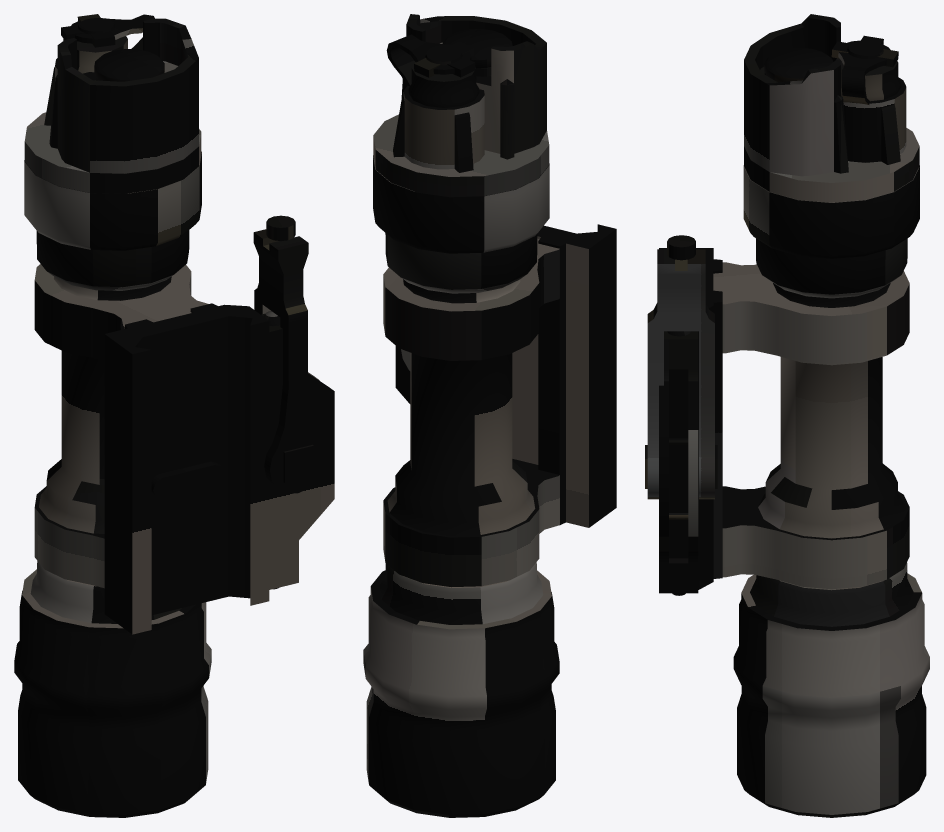
File: Light_Weapon.fbx
The picture shows the model from 3 angles, left to right: view 1: azimuth 30°, elevation 25°; view 2: azimuth 150°, elevation 25°; view 3: azimuth 270°, elevation 25°; orthographic projection.
Visible parts, largest first — view 1: asset_Light_Weapon.001; view 2: asset_Light_Weapon.001; view 3: asset_Light_Weapon.001.
Boxes of the visible parts, <box> form: asset_Light_Weapon.001: <box>14,14,334,817</box>; asset_Light_Weapon.001: <box>363,14,616,817</box>; asset_Light_Weapon.001: <box>645,14,929,817</box>.
Bounding box in the file's own units: 0.0229 × 0.0744 × 0.0261.
